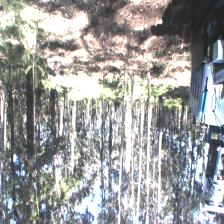trunktrack_idkeyframe: (146, 72, 151, 140), (157, 95, 163, 145)
